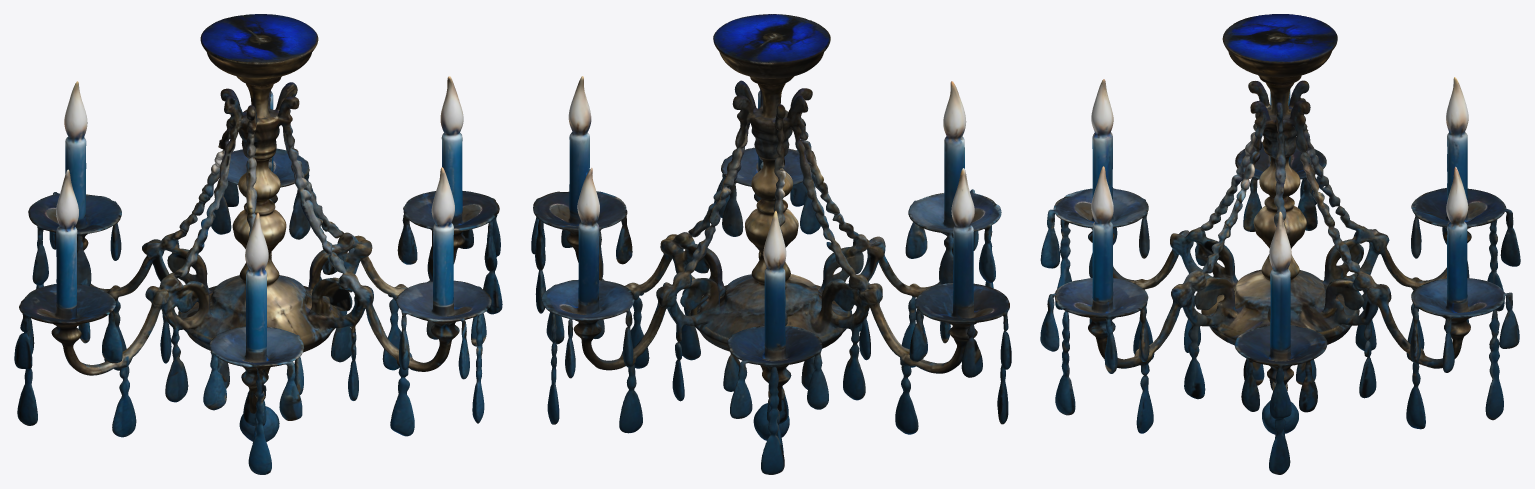
The model's file is A_decaying_chandelier_0613163405_texture.fbx.
3 views of the same model, side by side, from view 1: azimuth 30°, elevation 25°; view 2: azimuth 150°, elevation 25°; view 3: azimuth 270°, elevation 25° (orthographic).
Visible parts, largest first — view 1: Mesh1_Mesh1.004; view 2: Mesh1_Mesh1.004; view 3: Mesh1_Mesh1.004.
Part boxes in pixels (x1,y1,x2,y2): Mesh1_Mesh1.004: (14, 14, 502, 474); Mesh1_Mesh1.004: (531, 14, 1011, 474); Mesh1_Mesh1.004: (1040, 14, 1520, 474).
Size of the model in its own units: 197 by 158 by 173.
Materials: 1 (1 with a texture image).
